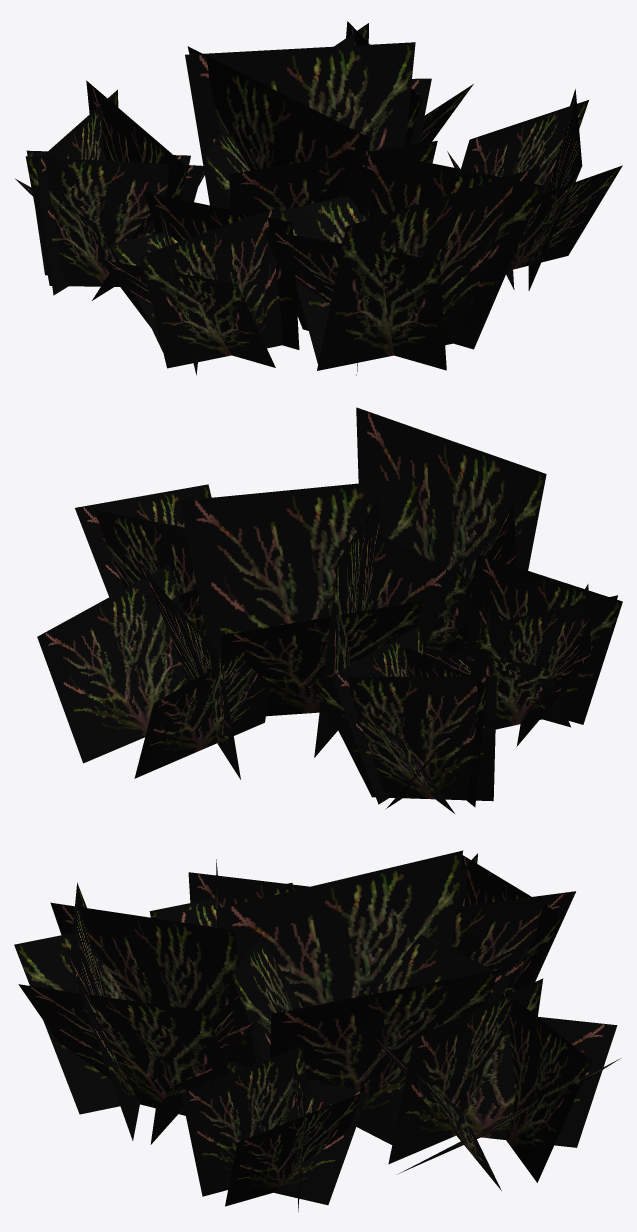
The model's file is kugm_yc_41_04.FBX.
3 renders of one model, top to bottom at view 1: azimuth 30°, elevation 25°; view 2: azimuth 150°, elevation 25°; view 3: azimuth 270°, elevation 25°, orthographic. The views are drawn at different scales.
Parts seen in each view (by area): view 1: kugm_yc_41_04; view 2: kugm_yc_41_04; view 3: kugm_yc_41_04.
Boxes of the visible parts, x1,y1,x2,y2 form: kugm_yc_41_04: (15, 21, 622, 375); kugm_yc_41_04: (37, 407, 622, 813); kugm_yc_41_04: (14, 850, 620, 1211).
Bounding box in the file's own units: 412 × 171 × 413.
